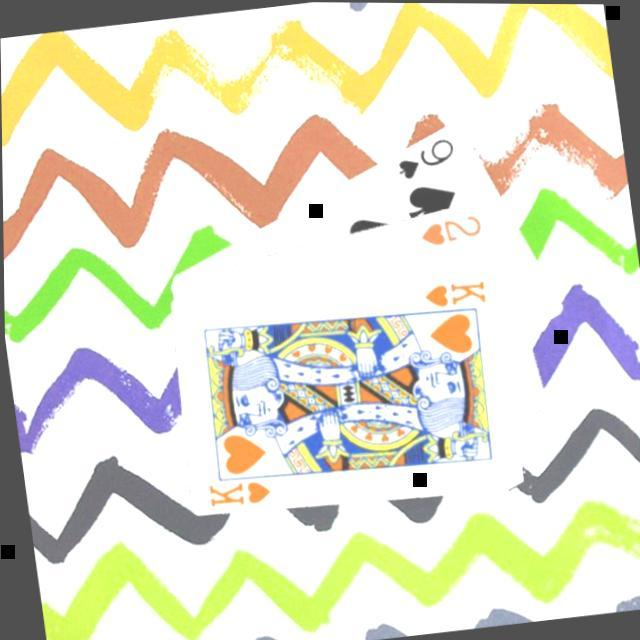2H: (414, 210, 484, 250)
9S: (388, 133, 461, 184)
KH: (201, 474, 273, 512), (418, 274, 488, 312)
